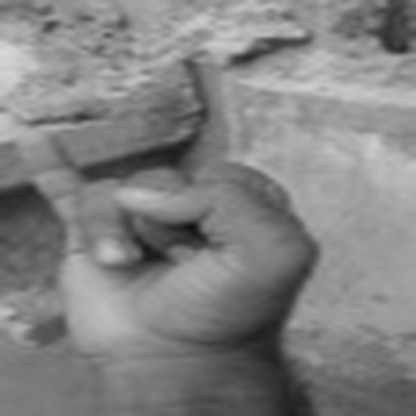i: (13, 125, 323, 347)
